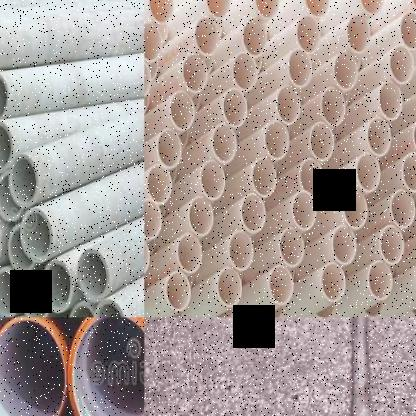pipe: (68, 317, 144, 416), (0, 317, 66, 416), (20, 208, 53, 262), (78, 249, 110, 302), (9, 154, 39, 208), (43, 260, 72, 312), (7, 224, 35, 274), (20, 273, 49, 317), (165, 271, 192, 312), (0, 171, 22, 221), (157, 128, 183, 169), (355, 152, 381, 193), (200, 160, 226, 201), (390, 188, 416, 228), (367, 260, 393, 300), (269, 265, 295, 305), (217, 267, 243, 307), (276, 84, 301, 125), (212, 124, 237, 165), (147, 164, 172, 205), (183, 54, 208, 95), (309, 122, 335, 161), (0, 268, 20, 318), (320, 86, 345, 126), (223, 88, 248, 128), (367, 117, 392, 157), (299, 157, 324, 197), (292, 190, 317, 230), (332, 225, 357, 265), (177, 233, 202, 273), (241, 194, 267, 232), (379, 226, 405, 264), (389, 47, 415, 85), (379, 81, 403, 122), (265, 119, 289, 160), (344, 189, 368, 230), (170, 91, 195, 130), (280, 227, 305, 266), (229, 231, 254, 270), (195, 17, 220, 56), (253, 158, 277, 198), (189, 196, 213, 236), (322, 263, 346, 303), (242, 18, 266, 57), (288, 48, 312, 87), (334, 51, 358, 90), (346, 16, 371, 53), (297, 15, 321, 53), (233, 52, 257, 90), (145, 199, 162, 240), (145, 23, 162, 63), (0, 120, 13, 172), (400, 12, 416, 50), (401, 152, 416, 192), (148, 0, 173, 24), (94, 300, 126, 318), (205, 0, 232, 20), (254, 0, 280, 20), (68, 302, 98, 318), (305, 0, 330, 16), (0, 72, 8, 120), (360, 0, 383, 16), (144, 57, 152, 98), (144, 237, 151, 276), (409, 0, 416, 12)
